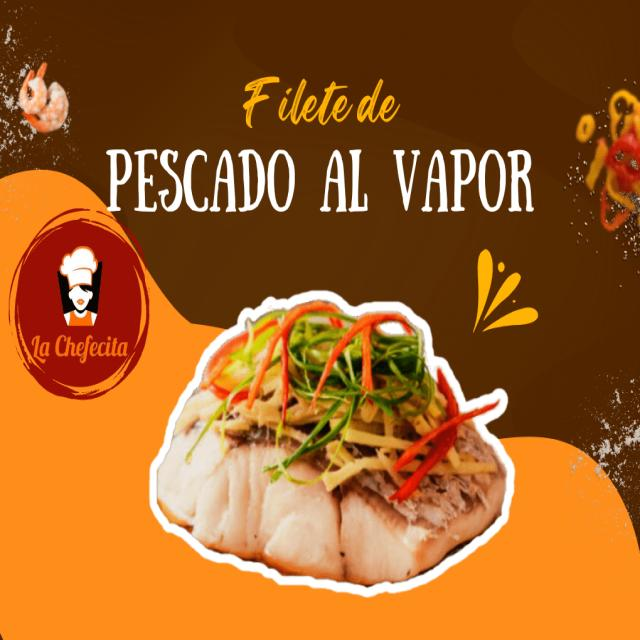pescado: (161, 305, 512, 584)
